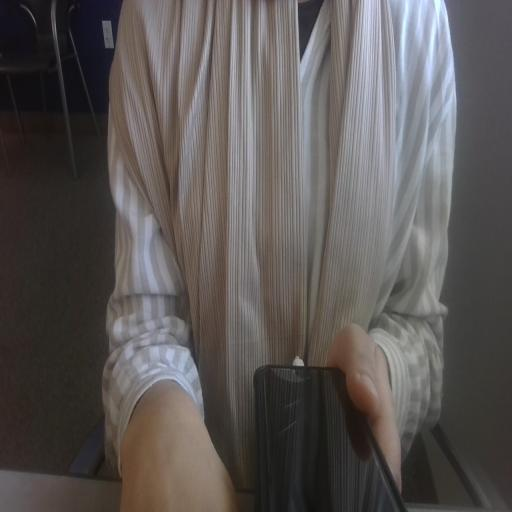phone: (238, 358, 417, 512)
